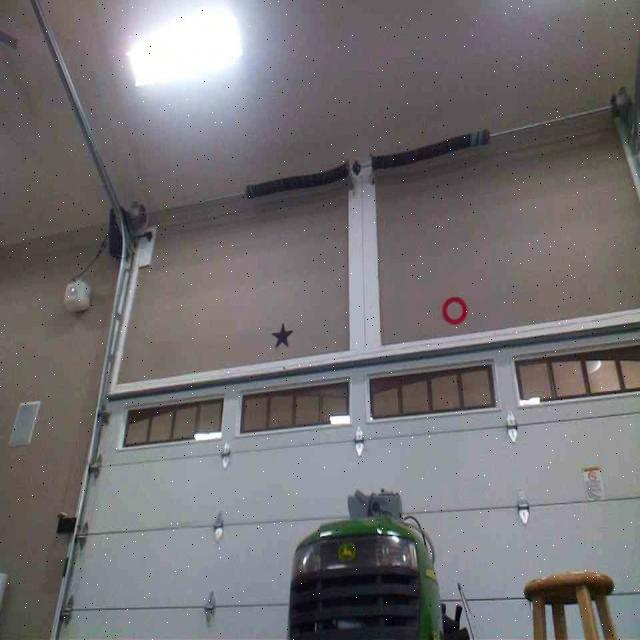ring_red: (441, 294, 468, 324)
star_black: (271, 321, 294, 347)
